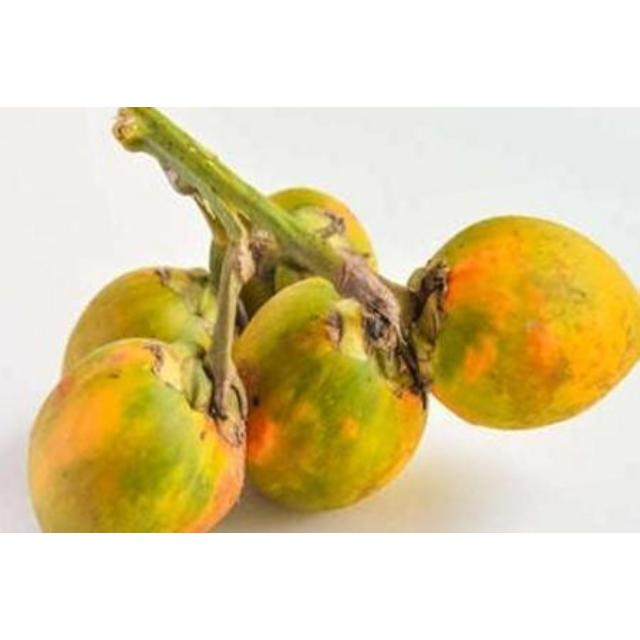good: (27, 107, 430, 532), (405, 217, 639, 433)
